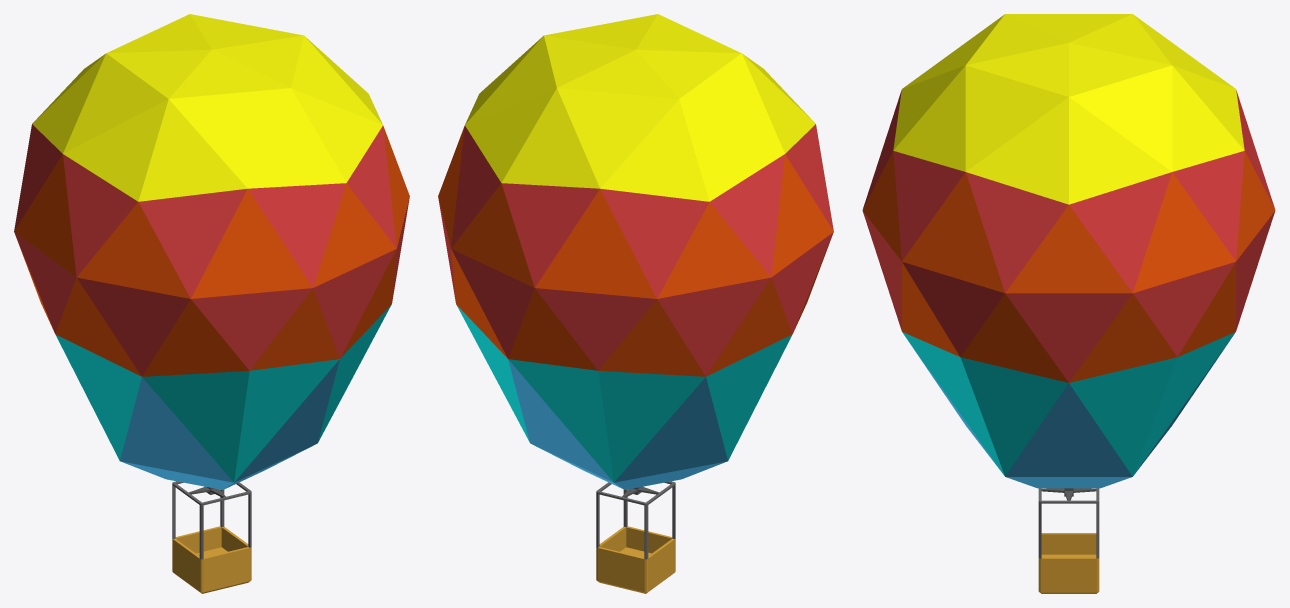
File: balloon.fbx
3 renders of one model, left to right at view 1: azimuth 30°, elevation 25°; view 2: azimuth 150°, elevation 25°; view 3: azimuth 270°, elevation 25°, orthographic. The views are drawn at different scales.
Visible parts, largest first — view 1: Balloon; view 2: Balloon; view 3: Balloon.
Boxes of the visible parts, box(x1,y1,x2,y2) form: Balloon: box(14, 14, 409, 593); Balloon: box(438, 14, 833, 593); Balloon: box(862, 14, 1275, 593).
Bounding box in the file's own units: 1947 × 2952 × 2048.
